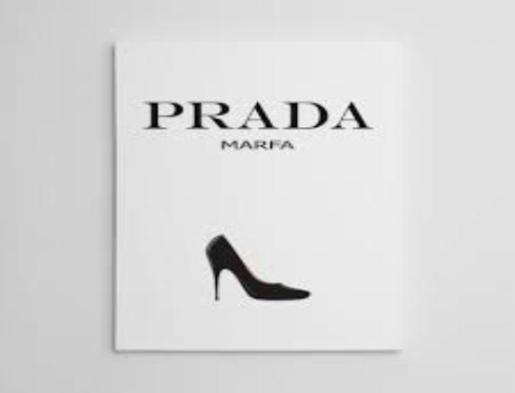PRADA: (141, 90, 374, 136)
